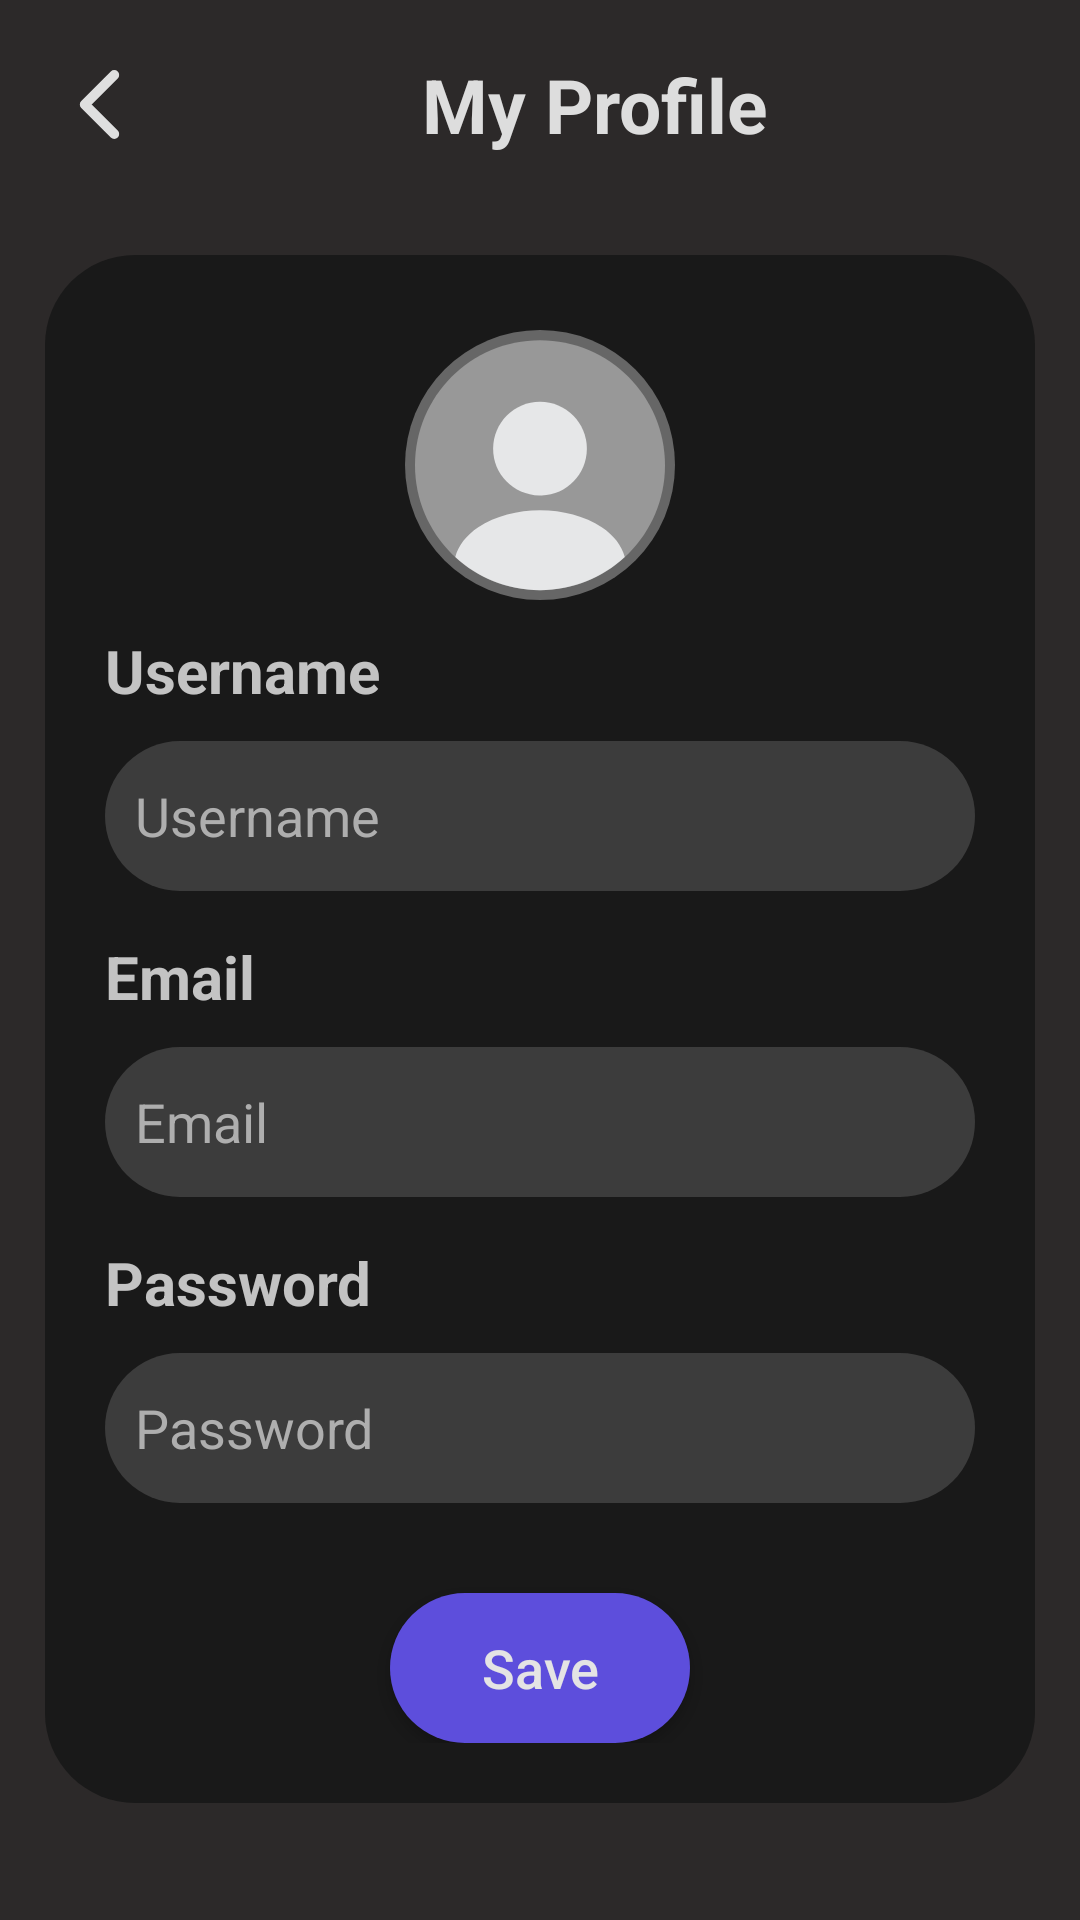

Named icons in this screenshot (1080px×1920px) and their centers, (x=x, y=y):
back: (x=99, y=104)
profile circle: (x=540, y=465)
